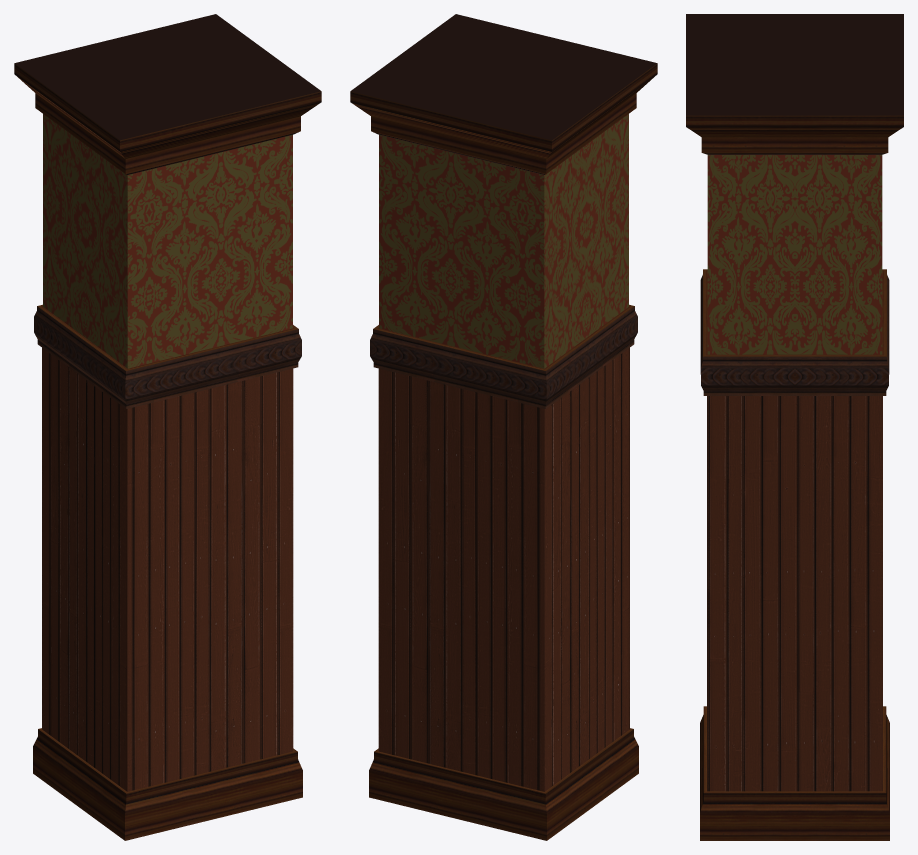
The model's file is Wall2BoxShallow.fbx.
3 renders of one model, left to right at view 1: azimuth 30°, elevation 25°; view 2: azimuth 150°, elevation 25°; view 3: azimuth 270°, elevation 25°, orthographic. The views are drawn at different scales.
Parts seen in each view (by area): view 1: Wall Outie_Large.003; view 2: Wall Outie_Large.003; view 3: Wall Outie_Large.003.
Part boxes in pixels (x1,y1,x2,y2): Wall Outie_Large.003: [14, 14, 321, 840]; Wall Outie_Large.003: [350, 14, 657, 840]; Wall Outie_Large.003: [686, 14, 903, 840].
Size of the model in its own units: 111 by 371 by 100.
